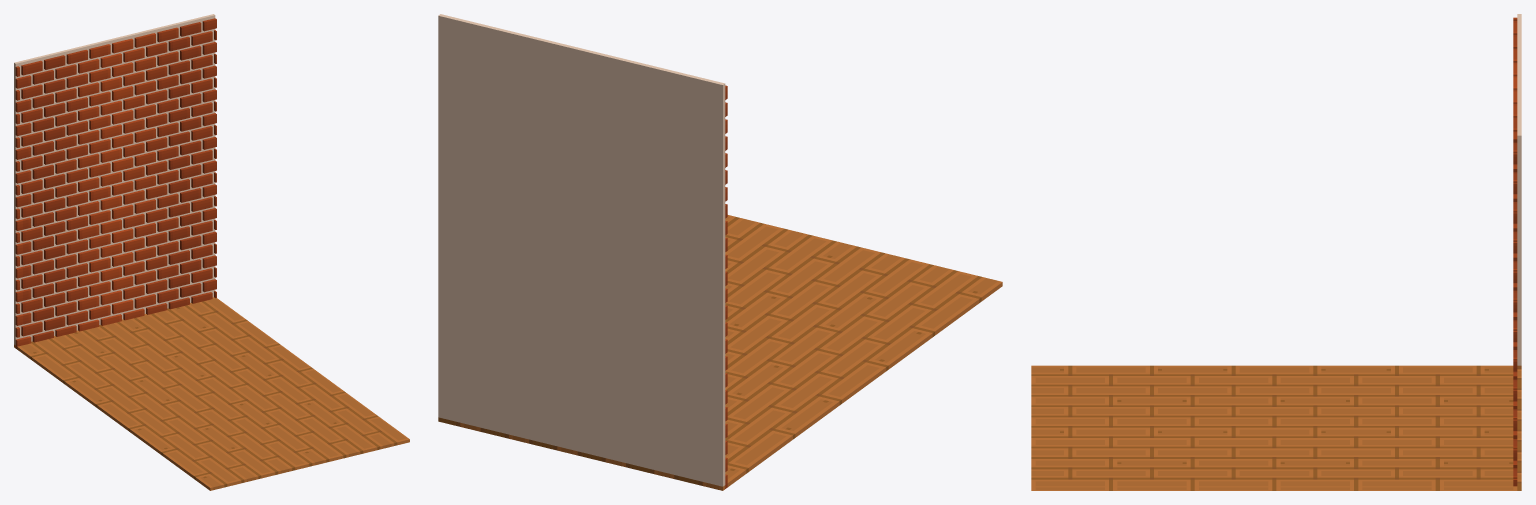
Rendered from room-4_1_lev1_lev3.glb.
The picture shows the model from 3 angles, left to right: view 1: azimuth 30°, elevation 25°; view 2: azimuth 150°, elevation 25°; view 3: azimuth 270°, elevation 25°; orthographic projection. The views are drawn at different scales.
Visible parts, largest first — view 1: room-4_1_lev1_lev3; view 2: room-4_1_lev1_lev3; view 3: room-4_1_lev1_lev3.
Part boxes in pixels (x1=…): room-4_1_lev1_lev3: x1=14, y1=14, x2=409, y2=490; room-4_1_lev1_lev3: x1=438, y1=14, x2=1002, y2=490; room-4_1_lev1_lev3: x1=1031, y1=14, x2=1521, y2=490.
Bounding box in the file's own units: 5.27 × 7.17 × 8.97.
1 material, 1 textured.
